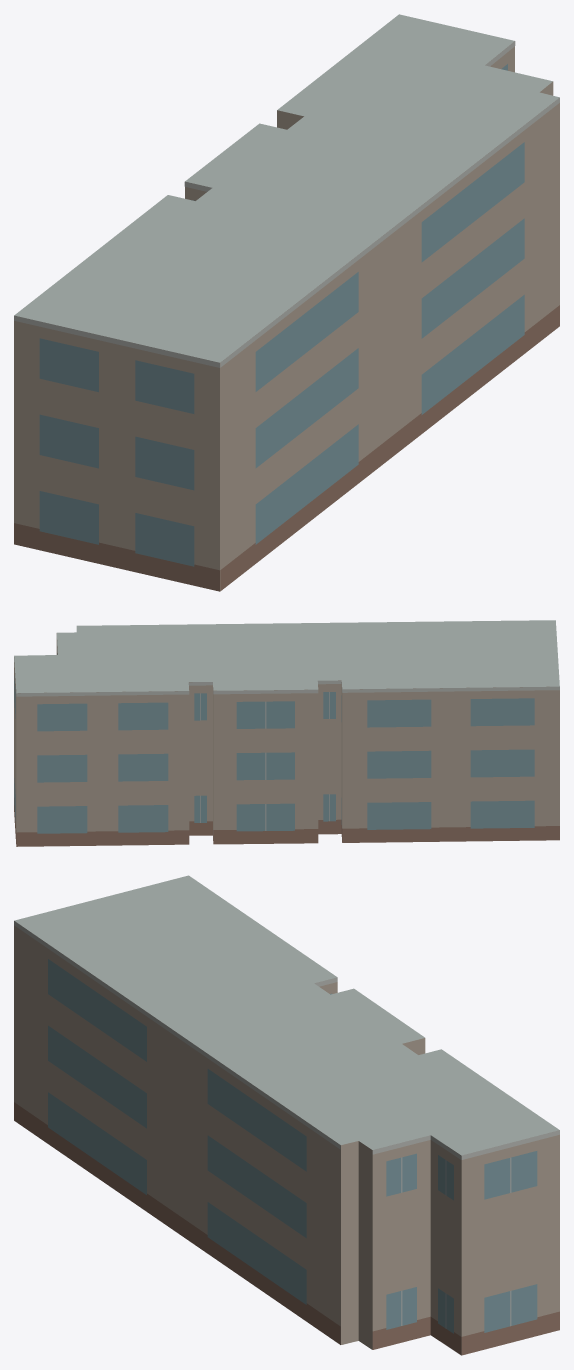
The model's file is survey-upis-32507215.glb.
3 renders of one model, top to bottom at view 1: azimuth 30°, elevation 25°; view 2: azimuth 150°, elevation 25°; view 3: azimuth 270°, elevation 25°, orthographic. The views are drawn at different scales.
Visible parts, largest first — view 1: survey-upis-32507215.tmp; view 2: survey-upis-32507215.tmp; view 3: survey-upis-32507215.tmp.
Boxes of the visible parts, x1,y1,x2,y2 form: survey-upis-32507215.tmp: (14, 14, 559, 591); survey-upis-32507215.tmp: (14, 620, 559, 846); survey-upis-32507215.tmp: (14, 875, 559, 1355).
Bounding box in the file's own units: 31.86 × 10.6 × 26.23.
